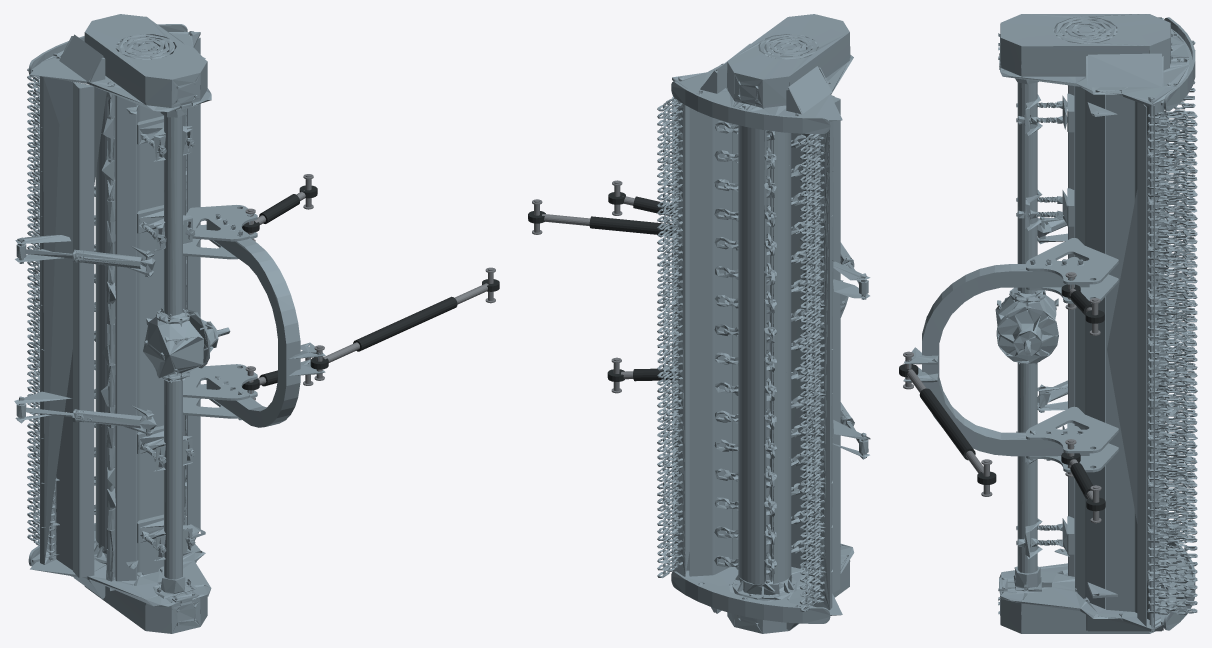
The model's file is implement_forest_chain_crusher_visual.obj.
3 views of the same model, side by side, from view 1: azimuth 30°, elevation 25°; view 2: azimuth 150°, elevation 25°; view 3: azimuth 270°, elevation 25° (orthographic). The views are drawn at different scales.
Visible parts, largest first — view 1: solid_1104, solid_1116, solid_51, solid_49, solid_1168, solid_1170, solid_596, solid_203, solid_261, solid_86, solid_24, solid_135 (+13 smaller); view 2: solid_50, solid_558, solid_596, solid_1168, solid_49, solid_1104, solid_48, solid_1116, solid_132, solid_134, solid_0, solid_24 (+6 smaller); view 3: solid_49, solid_50, solid_1168, solid_48, solid_1170, solid_86, solid_261, solid_203, solid_24, solid_136, solid_18, solid_1169 (+15 smaller).
Part boxes in pixels (x1,y1,x2,y2): solid_1104: [40, 76, 106, 564]; solid_1116: [73, 82, 94, 577]; solid_51: [115, 95, 136, 581]; solid_49: [114, 95, 184, 577]; solid_1168: [84, 14, 207, 105]; solid_1170: [206, 221, 300, 427]; solid_596: [95, 94, 107, 547]; solid_203: [164, 115, 182, 315]; solid_261: [164, 380, 182, 579]; solid_86: [187, 37, 200, 528]; solid_24: [30, 528, 211, 606]; solid_135: [143, 316, 203, 378]; solid_50: [689, 108, 732, 576]; solid_558: [738, 125, 764, 584]; solid_596: [773, 131, 791, 583]; solid_1168: [727, 14, 850, 105]; solid_49: [732, 123, 812, 570]; solid_1104: [813, 121, 833, 610]; solid_48: [672, 81, 689, 576]; solid_1116: [831, 95, 840, 592]; solid_132: [671, 81, 830, 133]; solid_134: [671, 571, 830, 623]; solid_0: [672, 45, 853, 121]; solid_24: [684, 543, 854, 615]; solid_49: [1075, 86, 1105, 608]; solid_50: [1106, 94, 1149, 619]; solid_1168: [1000, 14, 1170, 73]; solid_48: [1107, 105, 1154, 627]; solid_1170: [922, 264, 1089, 456]; solid_86: [1137, 102, 1146, 626]; solid_261: [1017, 363, 1037, 573]; solid_203: [1017, 82, 1037, 294]; solid_24: [999, 563, 1170, 631]; solid_136: [996, 306, 1058, 363]; solid_18: [1088, 53, 1161, 87]; solid_1169: [1000, 598, 1163, 633].
Bounding box in the file's own units: 2.21 × 2.85 × 1.31.
